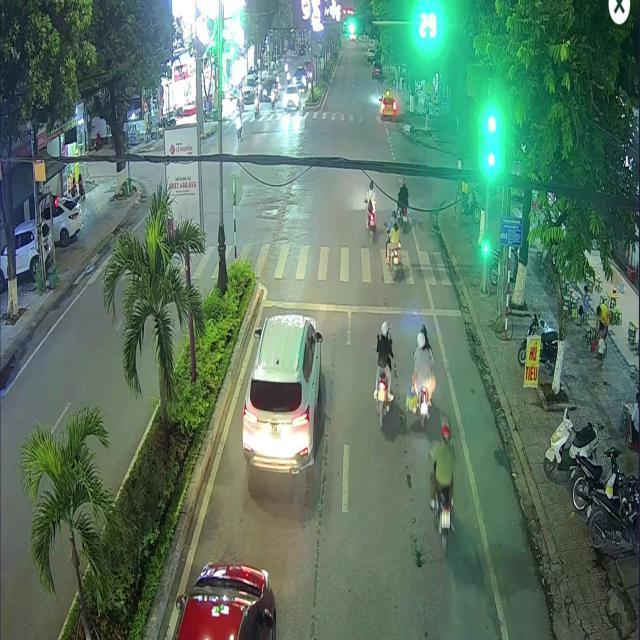car: (241, 313, 322, 473)
green_light: (484, 110, 498, 172), (345, 13, 372, 38)
motobike: (369, 310, 397, 453), (405, 323, 435, 426), (429, 421, 453, 549)
stop_line: (262, 299, 460, 316)
